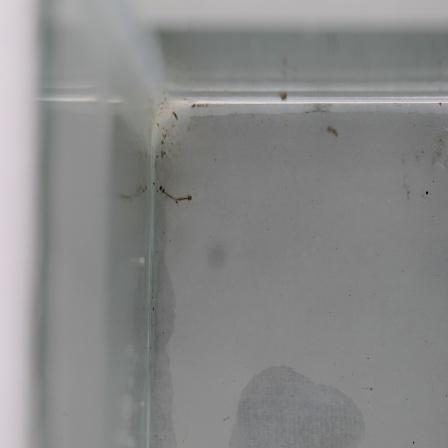Jentik-Nyamuk: (156, 181, 198, 209)
